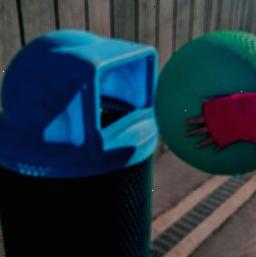algae: (152, 28, 256, 176)
